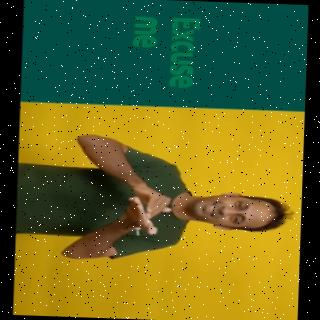ExcuseMe: (15, 132, 290, 268)
